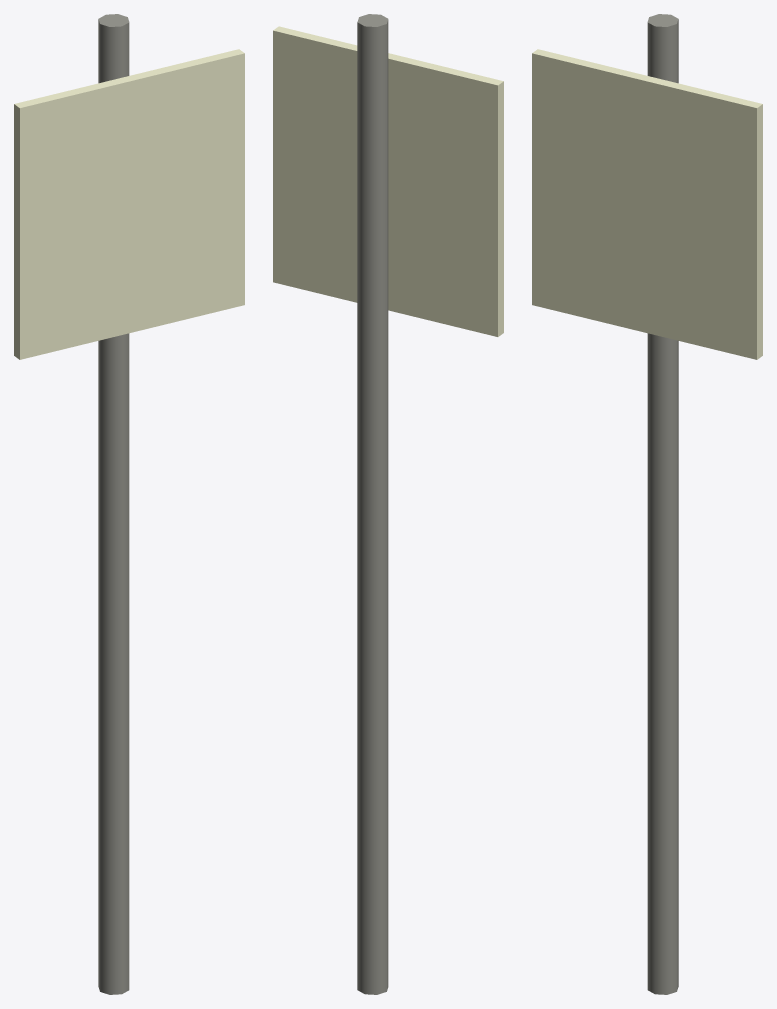
File: Sign_01.fbx
The picture shows the model from 3 angles, left to right: view 1: azimuth 30°, elevation 25°; view 2: azimuth 150°, elevation 25°; view 3: azimuth 330°, elevation 25°; orthographic projection.
Visible parts, largest first — view 1: sign; view 2: sign; view 3: sign.
Boxes of the visible parts, x1=… form: sign: x1=14, y1=14, x2=244, y2=994; sign: x1=273, y1=14, x2=503, y2=994; sign: x1=532, y1=14, x2=762, y2=994.
Size of the model in its own units: 73 by 300 by 14.88.
